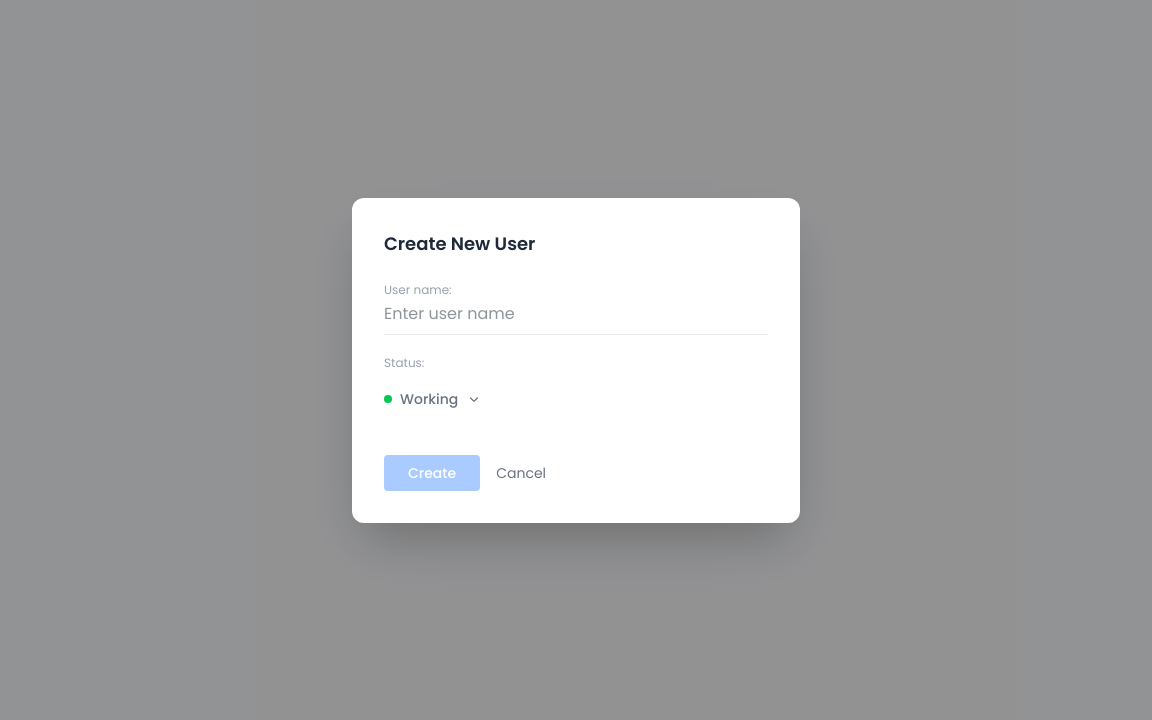
Test: CreateEmployeeModal › shows all status options after clicking the status select
This screenshot has width=1152, height=720.
What coordinates should you click on to do the following:
click the button "Working"
I would click on:
 (433, 398)
Its box is 368,374 -> 498,422.
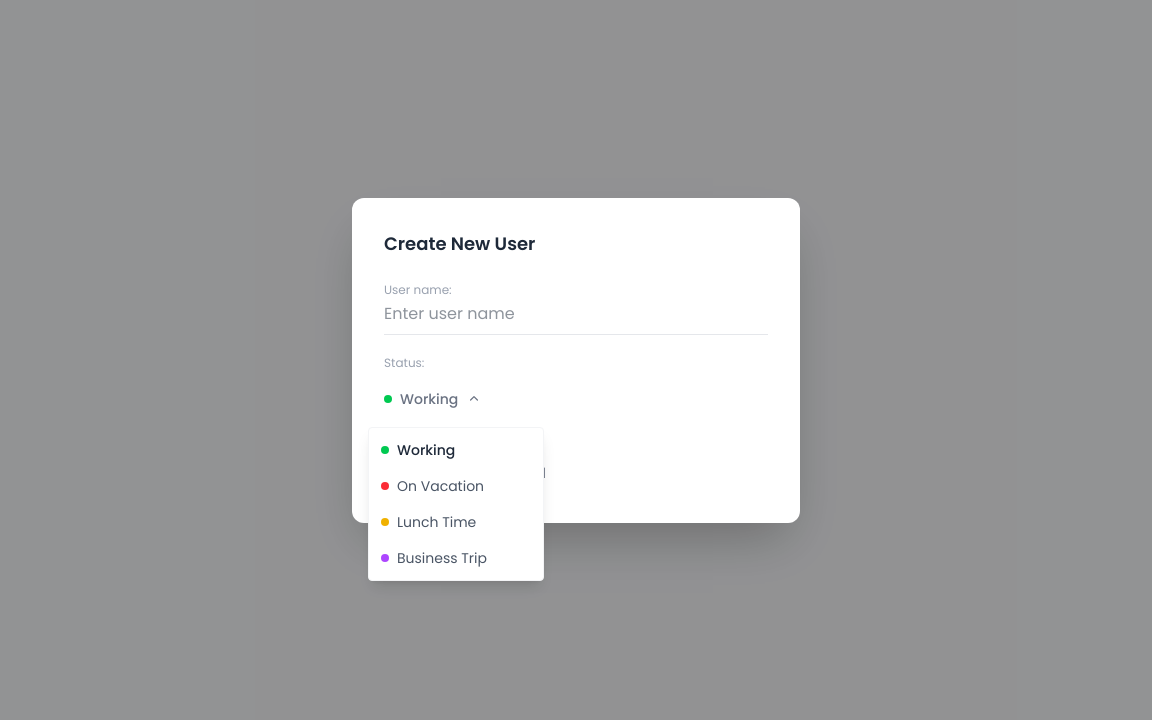
Check: the button "On Vacation" is shown, box 369,468 -> 543,504
Check: the button "Lunch Time" is shown, box 369,504 -> 543,540
Check: the button "Business Trip" is shown, box 369,540 -> 543,576
